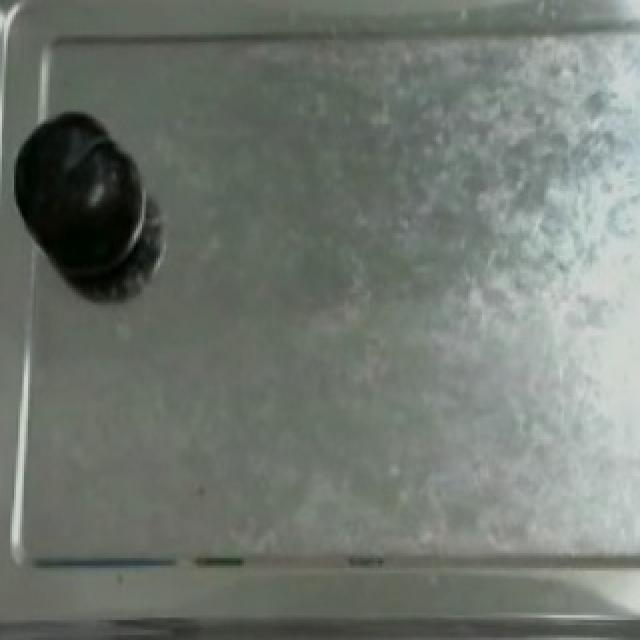Fruit: (8, 107, 146, 285)
